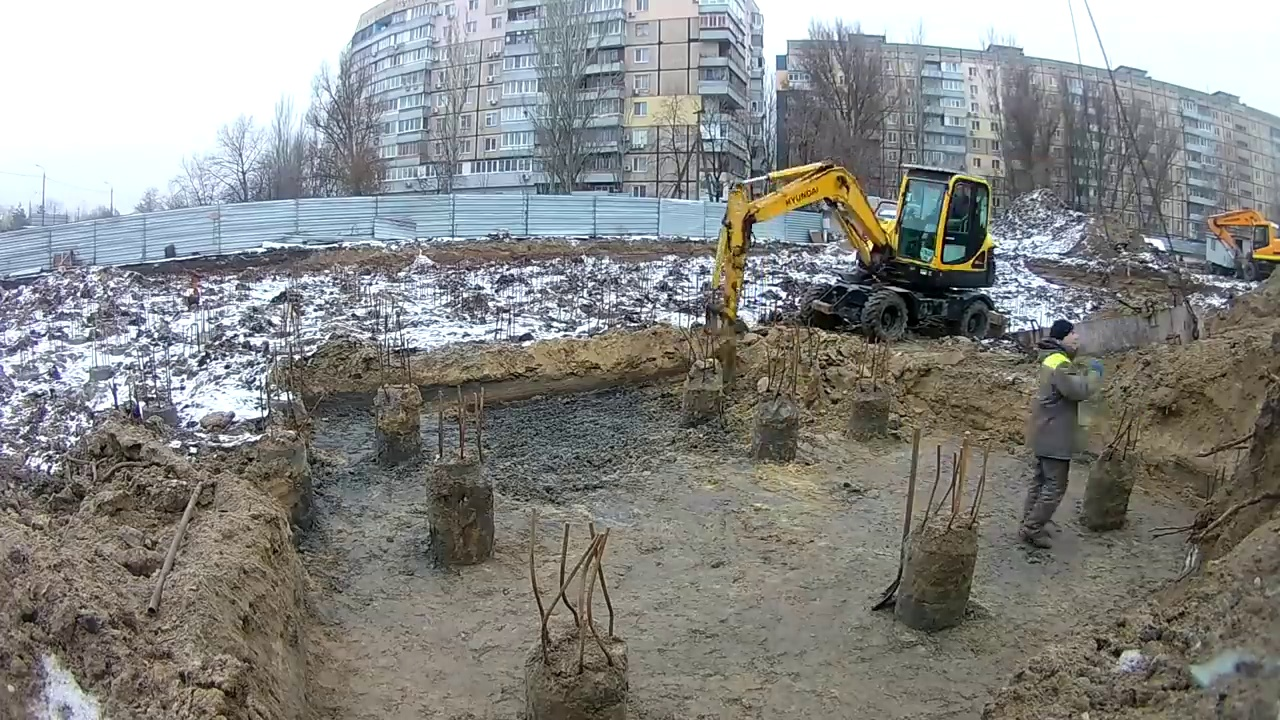helmet-off: (1049, 322, 1080, 359)
person: (1014, 319, 1094, 552)
